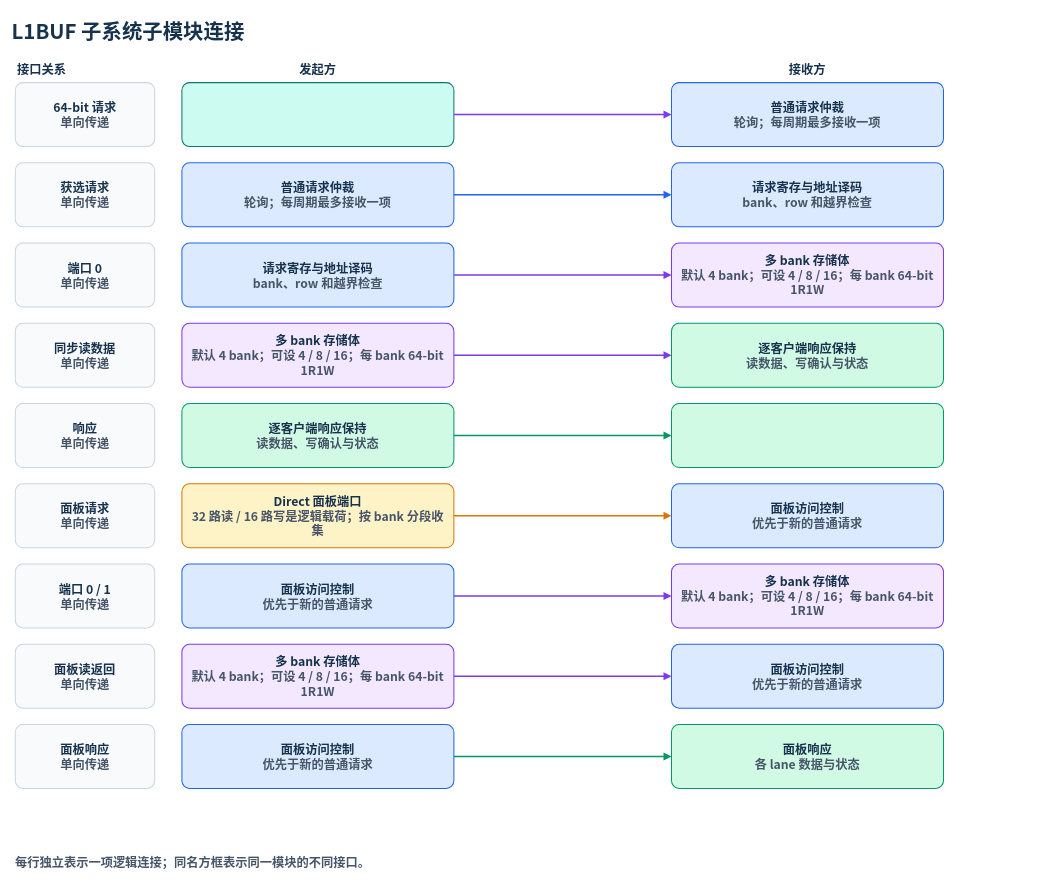
Some shapes in this 1057 by 887 pixel diagram are drawn without their labels. The centre of each missing label's shape, as x and y in pixels:
普通响应 按请求次序返回客户端: (x=807, y=435)
普通客户端 外部窗口 / DMA / 矩阵向量 / 复杂数学: (x=317, y=114)
